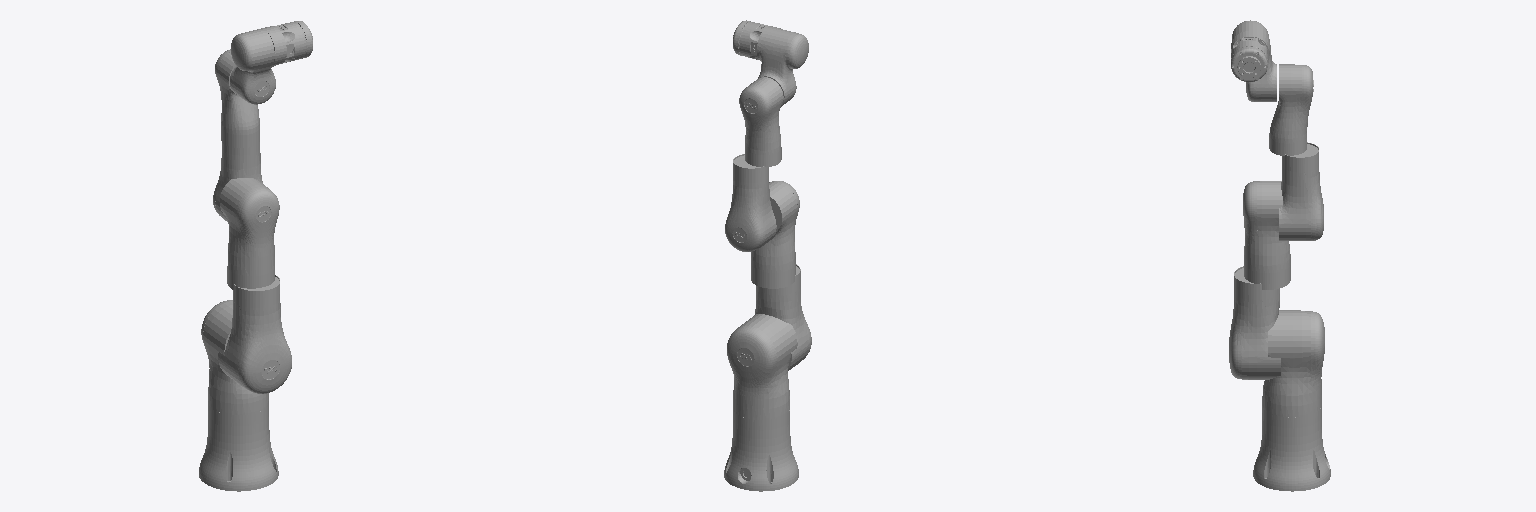
robot.urdf — rizon4s:
<?xml version="1.0"?>
<!-- ======================================================================== -->
<!-- | Flexiv Rizon 4s (with blurred dynamic parameters)                    | -->
<!-- ======================================================================== -->
<robot name="rizon4s">
    <joint name="joint1" type="revolute">
        <parent link="base_link"/>
        <child link="link1"/>
        <origin rpy="0.0 0.0 -3.141592653589793" xyz="0.0 0.0 0.155"/>
        <axis xyz="0 0 1"/>
        <limit effort="123" lower="-2.7925" upper="2.7925" velocity="2.0944"/>
    </joint>
    <joint name="joint2" type="revolute">
        <parent link="link1"/>
        <child link="link2"/>
        <origin rpy="0.0 0.0 0.0" xyz="0.0 0.03 0.21"/>
        <axis xyz="0 1 0"/>
        <limit effort="123" lower="-2.2689" upper="2.2689" velocity="2.0944"/>
    </joint>
    <joint name="joint3" type="revolute">
        <parent link="link2"/>
        <child link="link3"/>
        <origin rpy="0.0 0.0 0.0" xyz="0.0 0.035 0.205"/>
        <axis xyz="0 0 1"/>
        <limit effort="64" lower="-2.9671" upper="2.9671" velocity="2.4435"/>
    </joint>
    <joint name="joint4" type="revolute">
        <parent link="link3"/>
        <child link="link4"/>
        <origin rpy="0.0 0.0 -3.141592653589793" xyz="-0.02 -0.03 0.19"/>
        <axis xyz="0 1 0"/>
        <limit effort="64" lower="-1.8675" upper="2.6878" velocity="2.4435"/>
    </joint>
    <joint name="joint5" type="revolute">
        <parent link="link4"/>
        <child link="link5"/>
        <origin rpy="0.0 0.0 -3.141592653589793" xyz="-0.02 0.025 0.195"/>
        <axis xyz="0 0 1"/>
        <limit effort="39" lower="-2.9671" upper="2.9671" velocity="4.8869"/>
    </joint>
    <joint name="joint6" type="revolute">
        <parent link="link5"/>
        <child link="link6"/>
        <origin rpy="0.0 0.0 0.0" xyz="0.0 0.03 0.19"/>
        <axis xyz="0 1 0"/>
        <limit effort="39" lower="-1.3963" upper="4.5379" velocity="4.8869"/>
    </joint>
    <joint name="joint7" type="revolute">
        <parent link="link6"/>
        <child link="link7"/>
        <origin rpy="0.0 -1.5707963478683205 0.0" xyz="-0.015 0.073 0.11"/>
        <axis xyz="0 0 1"/>
        <limit effort="39" lower="-2.9671" upper="2.9671" velocity="4.8869"/>
    </joint>
    <joint name="link7_to_flange" type="fixed">
        <parent link="link7"/>
        <child link="flange"/>
        <origin rpy="0.0 0.0 -3.141592653589793" xyz="0.0 0.0 0.124"/>
    </joint>
    <link name="base_link">
        <inertial>
            <mass value="3.7"/>
            <origin rpy="0 0 0" xyz="0.0 -0.0 0.09"/>
            <inertia ixx="0.02" ixy="0.0" ixz="0.0" iyy="0.02" iyz="0.0" izz="0.01"/>
        </inertial>
        <visual name="shell">
            <origin rpy="0 0 0" xyz="0 0 0"/>
            <geometry>
                <mesh filename="package://meshes/rizon4s/visual/link0.obj"/>
            </geometry>
            <material name="rizon_light_grey"/>
        </visual>
        <collision name="hull">
            <origin rpy="0 0 0" xyz="0 0 0"/>
            <geometry>
                <mesh filename="package://meshes/rizon4s/collision/link0.stl"/>
            </geometry>
        </collision>
    </link>
    <link name="link1">
        <inertial>
            <mass value="3.7"/>
            <origin rpy="0 0 0" xyz="0.0 0.01 0.15"/>
            <inertia ixx="0.03" ixy="0.0" ixz="0.0" iyy="0.03" iyz="0.0" izz="0.01"/>
        </inertial>
        <visual name="shell">
            <origin rpy="0 0 0" xyz="0 0 0"/>
            <geometry>
                <mesh filename="package://meshes/rizon4s/visual/link1.obj"/>
            </geometry>
            <material name="rizon_light_grey"/>
        </visual>
        <visual name="ring">
            <origin rpy="0 0 0" xyz="0 0 -0.0025"/>
            <geometry>
                <mesh filename="package://meshes/rizon4s/visual/ring.obj" scale="0.062 0.062 0.002"/>
            </geometry>
            <material name="rizon_white"/>
        </visual>
        <collision name="hull">
            <origin rpy="0 0 0" xyz="0 0 0"/>
            <geometry>
                <mesh filename="package://meshes/rizon4s/collision/link1.stl"/>
            </geometry>
        </collision>
    </link>
    <link name="link2">
        <inertial>
            <mass value="2.7"/>
            <origin rpy="0 0 0" xyz="0.0 0.04 0.1"/>
            <inertia ixx="0.02" ixy="0.0" ixz="0.0" iyy="0.02" iyz="-0.0" izz="0.0"/>
        </inertial>
        <visual name="shell">
            <origin rpy="0 0 0" xyz="0 0 0"/>
            <geometry>
                <mesh filename="package://meshes/rizon4s/visual/link2.obj"/>
            </geometry>
            <material name="rizon_light_grey"/>
        </visual>
        <visual name="ring">
            <origin rpy="1.5707963 0 0" xyz="0 -0.0025 0"/>
            <geometry>
                <mesh filename="package://meshes/rizon4s/visual/ring.obj" scale="0.062 0.062 0.002"/>
            </geometry>
            <material name="rizon_white"/>
        </visual>
        <collision name="hull">
            <origin rpy="0 0 0" xyz="0 0 0"/>
            <geometry>
                <mesh filename="package://meshes/rizon4s/collision/link2.stl"/>
            </geometry>
        </collision>
    </link>
    <link name="link3">
        <inertial>
            <mass value="2.4"/>
            <origin rpy="0 0 0" xyz="-0.01 -0.0 0.13"/>
            <inertia ixx="0.01" ixy="0.0" ixz="-0.0" iyy="0.01" iyz="-0.0" izz="0.0"/>
        </inertial>
        <visual name="shell">
            <origin rpy="0 0 0" xyz="0 0 0"/>
            <geometry>
                <mesh filename="package://meshes/rizon4s/visual/link3.obj"/>
            </geometry>
            <material name="rizon_light_grey"/>
        </visual>
        <visual name="ring">
            <origin rpy="0 0 0" xyz="0 0 -0.0025"/>
            <geometry>
                <mesh filename="package://meshes/rizon4s/visual/ring.obj" scale="0.051 0.051 0.002"/>
            </geometry>
            <material name="rizon_white"/>
        </visual>
        <collision name="hull">
            <origin rpy="0 0 0" xyz="0 0 0"/>
            <geometry>
                <mesh filename="package://meshes/rizon4s/collision/link3.stl"/>
            </geometry>
        </collision>
    </link>
    <link name="link4">
        <inertial>
            <mass value="2.4"/>
            <origin rpy="0 0 0" xyz="-0.01 0.03 0.1"/>
            <inertia ixx="0.02" ixy="0.0" ixz="-0.0" iyy="0.02" iyz="-0.0" izz="0.0"/>
        </inertial>
        <visual name="shell">
            <origin rpy="0 0 0" xyz="0 0 0"/>
            <geometry>
                <mesh filename="package://meshes/rizon4s/visual/link4.obj"/>
            </geometry>
            <material name="rizon_light_grey"/>
        </visual>
        <visual name="ring">
            <origin rpy="1.5707963 0 0" xyz="0 -0.0025 0"/>
            <geometry>
                <mesh filename="package://meshes/rizon4s/visual/ring.obj" scale="0.051 0.051 0.002"/>
            </geometry>
            <material name="rizon_white"/>
        </visual>
        <collision name="hull">
            <origin rpy="0 0 0" xyz="0 0 0"/>
            <geometry>
                <mesh filename="package://meshes/rizon4s/collision/link4.stl"/>
            </geometry>
        </collision>
    </link>
    <link name="link5">
        <inertial>
            <mass value="2.4"/>
            <origin rpy="0 0 0" xyz="-0.0 0.0 0.13"/>
            <inertia ixx="0.01" ixy="0.0" ixz="0.0" iyy="0.01" iyz="0.0" izz="0.0"/>
        </inertial>
        <visual name="shell">
            <origin rpy="0 0 0" xyz="0 0 0"/>
            <geometry>
                <mesh filename="package://meshes/rizon4s/visual/link5.obj"/>
            </geometry>
            <material name="rizon_light_grey"/>
        </visual>
        <visual name="ring">
            <origin rpy="0 0 0" xyz="0 0 -0.0025"/>
            <geometry>
                <mesh filename="package://meshes/rizon4s/visual/ring.obj" scale="0.051 0.051 0.002"/>
            </geometry>
            <material name="rizon_white"/>
        </visual>
        <collision name="hull">
            <origin rpy="0 0 0" xyz="0 0 0"/>
            <geometry>
                <mesh filename="package://meshes/rizon4s/collision/link5.stl"/>
            </geometry>
        </collision>
    </link>
    <link name="link6">
        <inertial>
            <mass value="2.2"/>
            <origin rpy="0 0 0" xyz="0.02 0.06 0.07"/>
            <inertia ixx="0.01" ixy="0.0" ixz="0.0" iyy="0.01" iyz="0.0" izz="0.0"/>
        </inertial>
        <visual name="shell">
            <origin rpy="0 0 0" xyz="0 0 0"/>
            <geometry>
                <mesh filename="package://meshes/rizon4s/visual/link6.obj"/>
            </geometry>
            <material name="rizon_light_grey"/>
        </visual>
        <visual name="ring">
            <origin rpy="1.5707963 0 0" xyz="0 -0.0025 0"/>
            <geometry>
                <mesh filename="package://meshes/rizon4s/visual/ring.obj" scale="0.051 0.051 0.002"/>
            </geometry>
            <material name="rizon_white"/>
        </visual>
        <collision name="hull">
            <origin rpy="0 0 0" xyz="0 0 0"/>
            <geometry>
                <mesh filename="package://meshes/rizon4s/collision/link6.stl"/>
            </geometry>
        </collision>
    </link>
    <link name="link7">
        <inertial>
            <mass value="1.4"/>
            <origin rpy="0 0 0" xyz="0.0 0.0 0.05"/>
            <inertia ixx="0.0" ixy="0.0" ixz="0.0" iyy="0.0" iyz="0.0" izz="0.0"/>
        </inertial>
        <visual name="shell">
            <origin rpy="0 0 0" xyz="0 0 0"/>
            <geometry>
                <mesh filename="package://meshes/rizon4s/visual/link7.obj"/>
            </geometry>
            <material name="rizon_light_grey"/>
        </visual>
        <visual name="ring">
            <origin rpy="0 0 0" xyz="0 0 -0.0025"/>
            <geometry>
                <mesh filename="package://meshes/rizon4s/visual/ring.obj" scale="0.051 0.051 0.002"/>
            </geometry>
            <material name="rizon_white"/>
        </visual>
        <collision name="hull">
            <origin rpy="0 0 0" xyz="0 0 0"/>
            <geometry>
                <mesh filename="package://meshes/rizon4s/collision/link7.stl"/>
            </geometry>
        </collision>
    </link>
    <link name="flange"/>
    <material name="rizon_light_grey">
        <color rgba="0.7 0.7 0.7 1.0"/>
    </material>
    <material name="rizon_dark_grey">
        <color rgba="0.4 0.4 0.4 1.0"/>
    </material>
    <material name="rizon_white">
        <color rgba="1.0 1.0 1.0 1.0"/>
    </material>
</robot>

--- Facts derived from the render (not from the file) ---
The picture shows the robot from 3 angles, left to right: view 1: azimuth 30°, elevation 25°; view 2: azimuth 150°, elevation 25°; view 3: azimuth 270°, elevation 25°; orthographic projection.
Model rizon4s with 9 links and 8 joints (7 revolute, 1 fixed), rooted at base_link, posed every joint at zero.
Visible links, largest first — view 1: link2, link3, base_link, link1, link6, link5, link4, link7; view 2: link1, base_link, link4, link3, link5, link6, link2, link7; view 3: link1, base_link, link2, link3, link4, link5, link7, link6.
Link boxes in pixels (x1,y1,x2,y2): link2: (218, 275, 291, 393); link3: (220, 178, 279, 289); base_link: (199, 404, 278, 491); link1: (201, 300, 268, 426); link6: (230, 26, 276, 104); link5: (215, 49, 259, 147); link4: (213, 142, 262, 221); link7: (266, 21, 312, 65); link1: (727, 314, 797, 430); base_link: (724, 410, 798, 491); link4: (725, 154, 776, 251); link3: (751, 181, 799, 288); link5: (739, 77, 783, 166); link6: (757, 27, 808, 106); link2: (755, 264, 811, 370); link7: (733, 20, 780, 59); link1: (1262, 310, 1324, 428); base_link: (1253, 406, 1330, 491); link2: (1229, 266, 1280, 379); link3: (1243, 181, 1290, 289); link4: (1279, 142, 1323, 240); link5: (1269, 64, 1313, 155); link7: (1231, 31, 1267, 81); link6: (1232, 20, 1276, 101).
Size in the robot's own frame: 0.242 by 0.2698 by 1.3 metres.
Meshes: 9 distinct files referenced, 8 mesh visuals loaded (8 OBJ); not drawn: 7 (file found but could not be loaded).